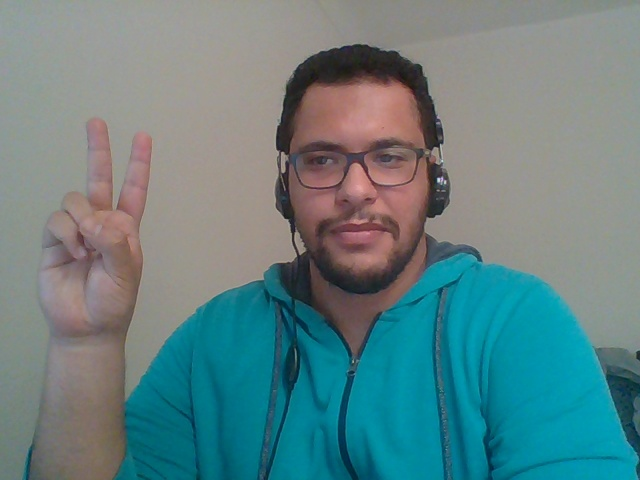vectory: (21, 103, 162, 336)
